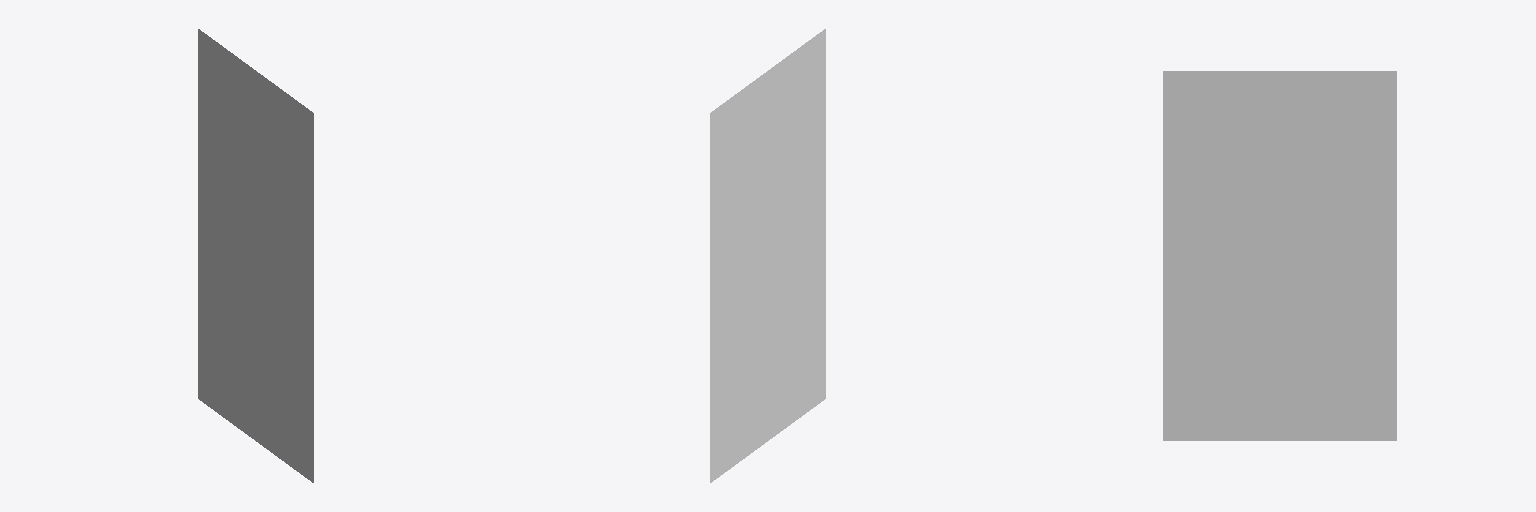
The model's file is wall.obj.
3 views of the same model, side by side, from view 1: azimuth 30°, elevation 25°; view 2: azimuth 150°, elevation 25°; view 3: azimuth 270°, elevation 25° (orthographic).
Visible parts, largest first — view 1: wall; view 2: wall; view 3: wall.
Boxes of the visible parts, box(x1,y1,x2,y2) form: wall: box(198, 29, 313, 482); wall: box(710, 29, 825, 482); wall: box(1163, 71, 1396, 440).
Bounding box in the file's own units: 0 × 3.5 × 2.